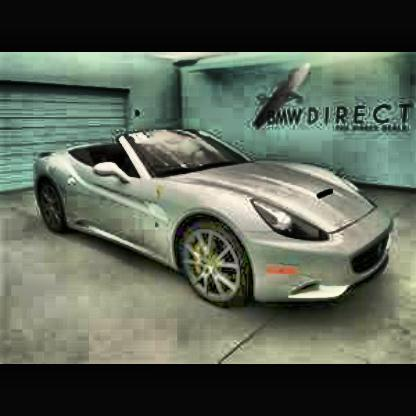Ferrari California Convertible 2012: (35, 129, 396, 313)
